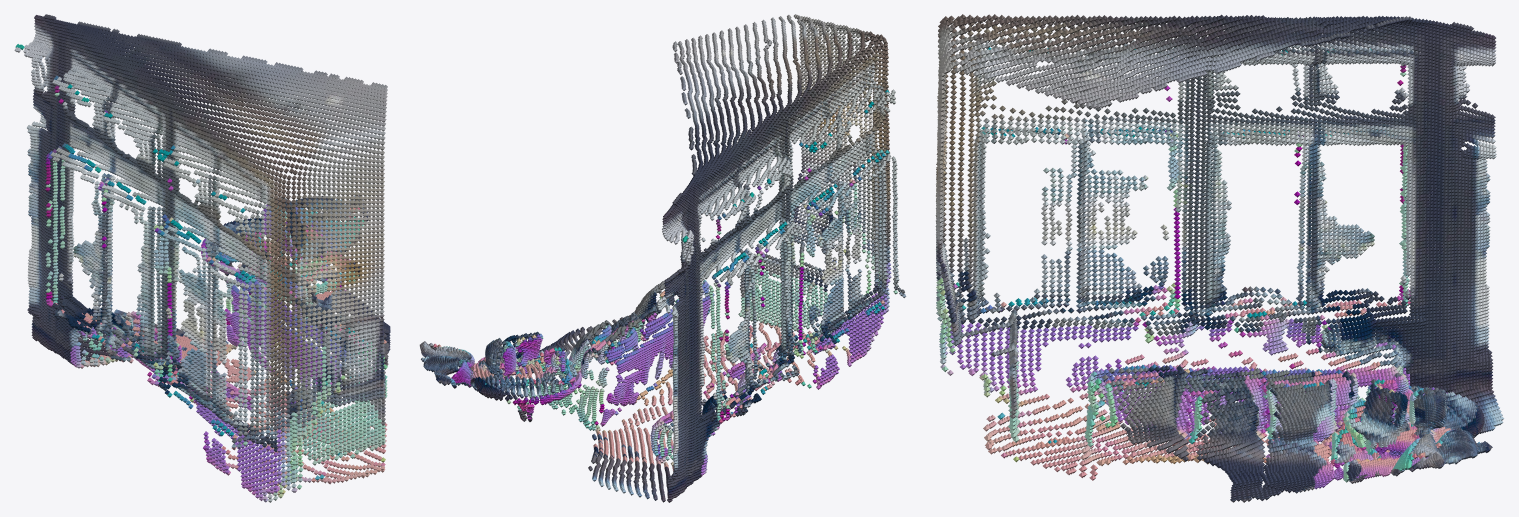
File: combine_gt.glb
3 views of the same model, side by side, from view 1: azimuth 30°, elevation 25°; view 2: azimuth 150°, elevation 25°; view 3: azimuth 270°, elevation 25° (orthographic). The views are drawn at different scales.
Visible parts, largest first — view 1: world; view 2: world; view 3: world.
Boxes of the visible parts, <box> form: world: <box>14,14,390,502</box>; world: <box>419,14,906,502</box>; world: <box>935,14,1504,502</box>.
Bounding box in the file's own units: 3.77 × 3.69 × 4.94.
